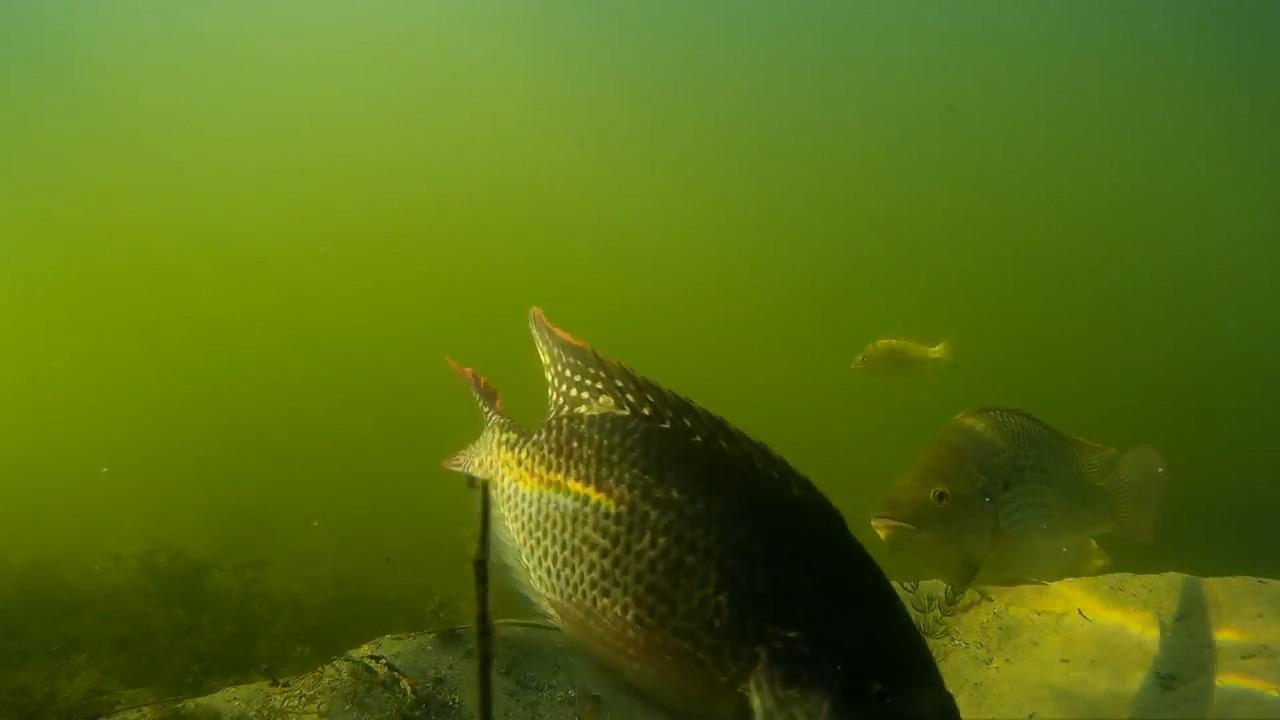Tilapia: (437, 292, 962, 720), (878, 410, 1181, 610), (825, 318, 974, 384)
